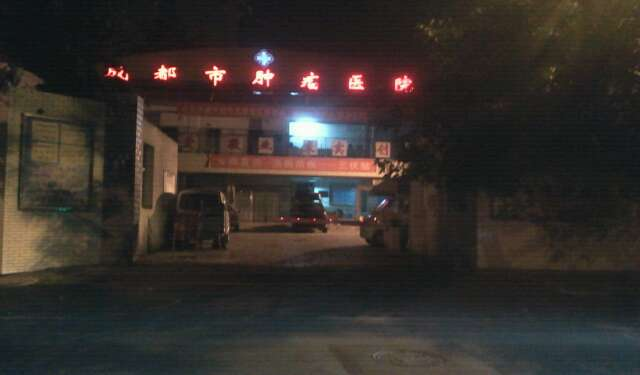car: (172, 185, 233, 253)
